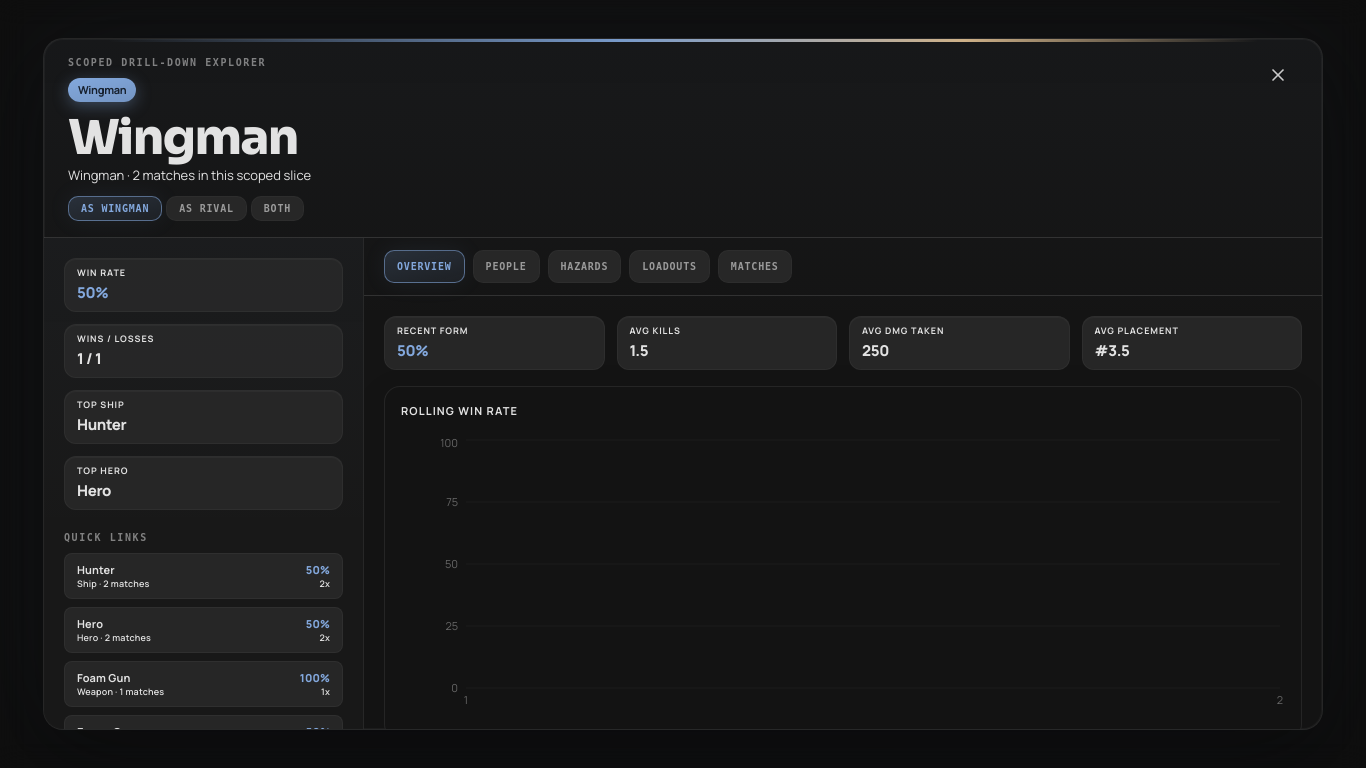
DrillDownOverlay › matches canonical teammate targets across alias-backed historical names
Click the button "Matches". click: (755, 267)
box: [718, 250, 792, 283]
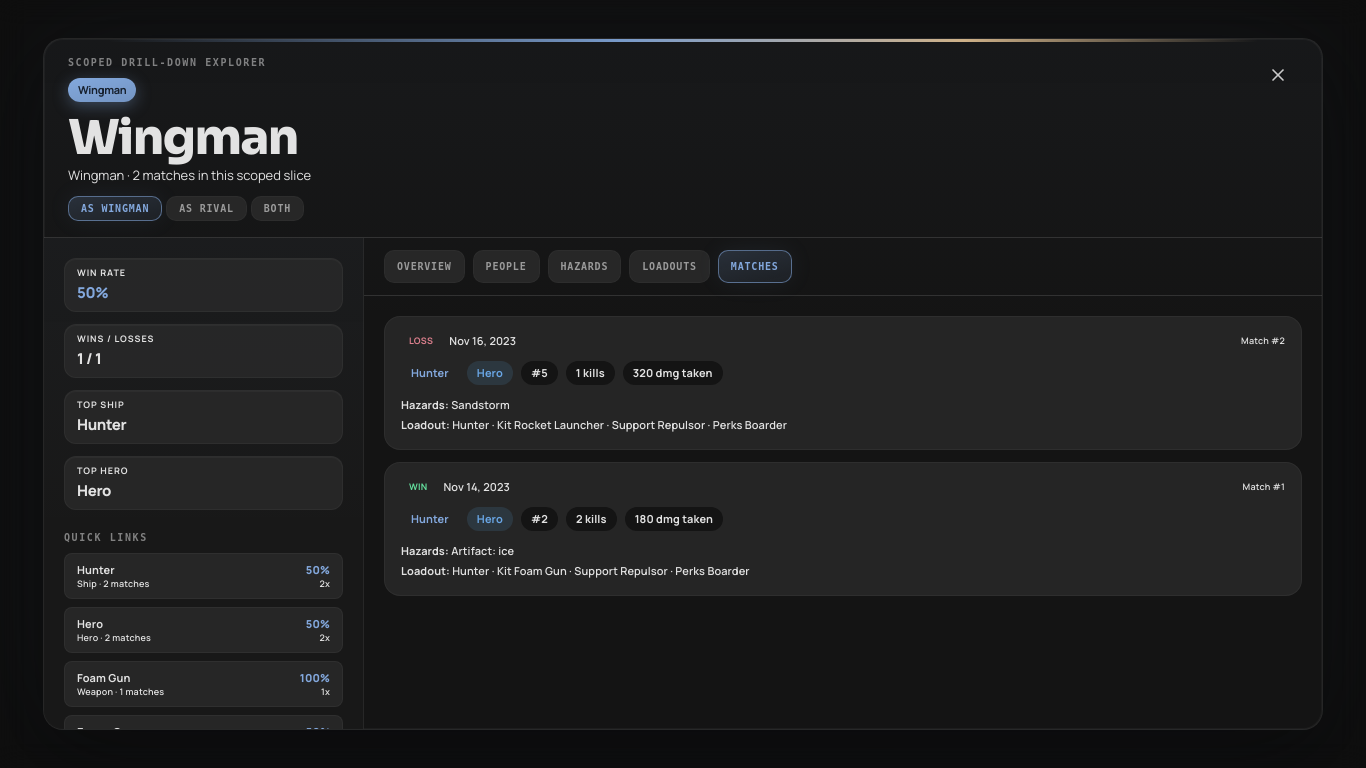
Result: the text "Match #1" is shown at [1243, 481, 1285, 493]
Result: the text "Match #2" is shown at [1241, 335, 1285, 347]
